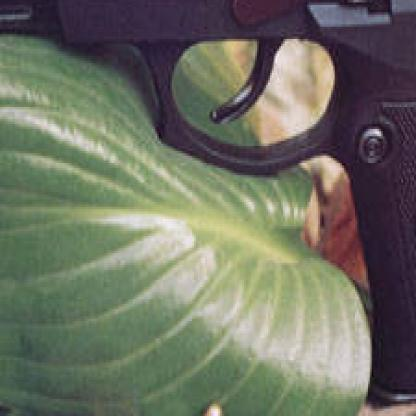gun: (0, 0, 414, 409)
